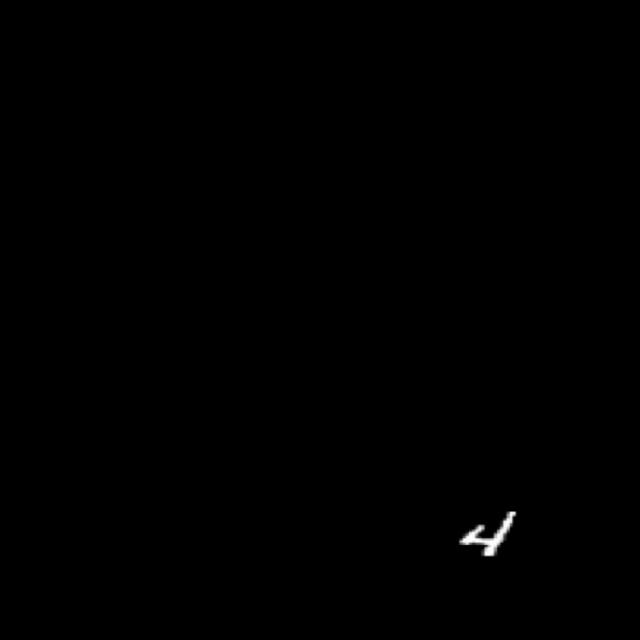four -4-: (447, 503, 536, 579)
